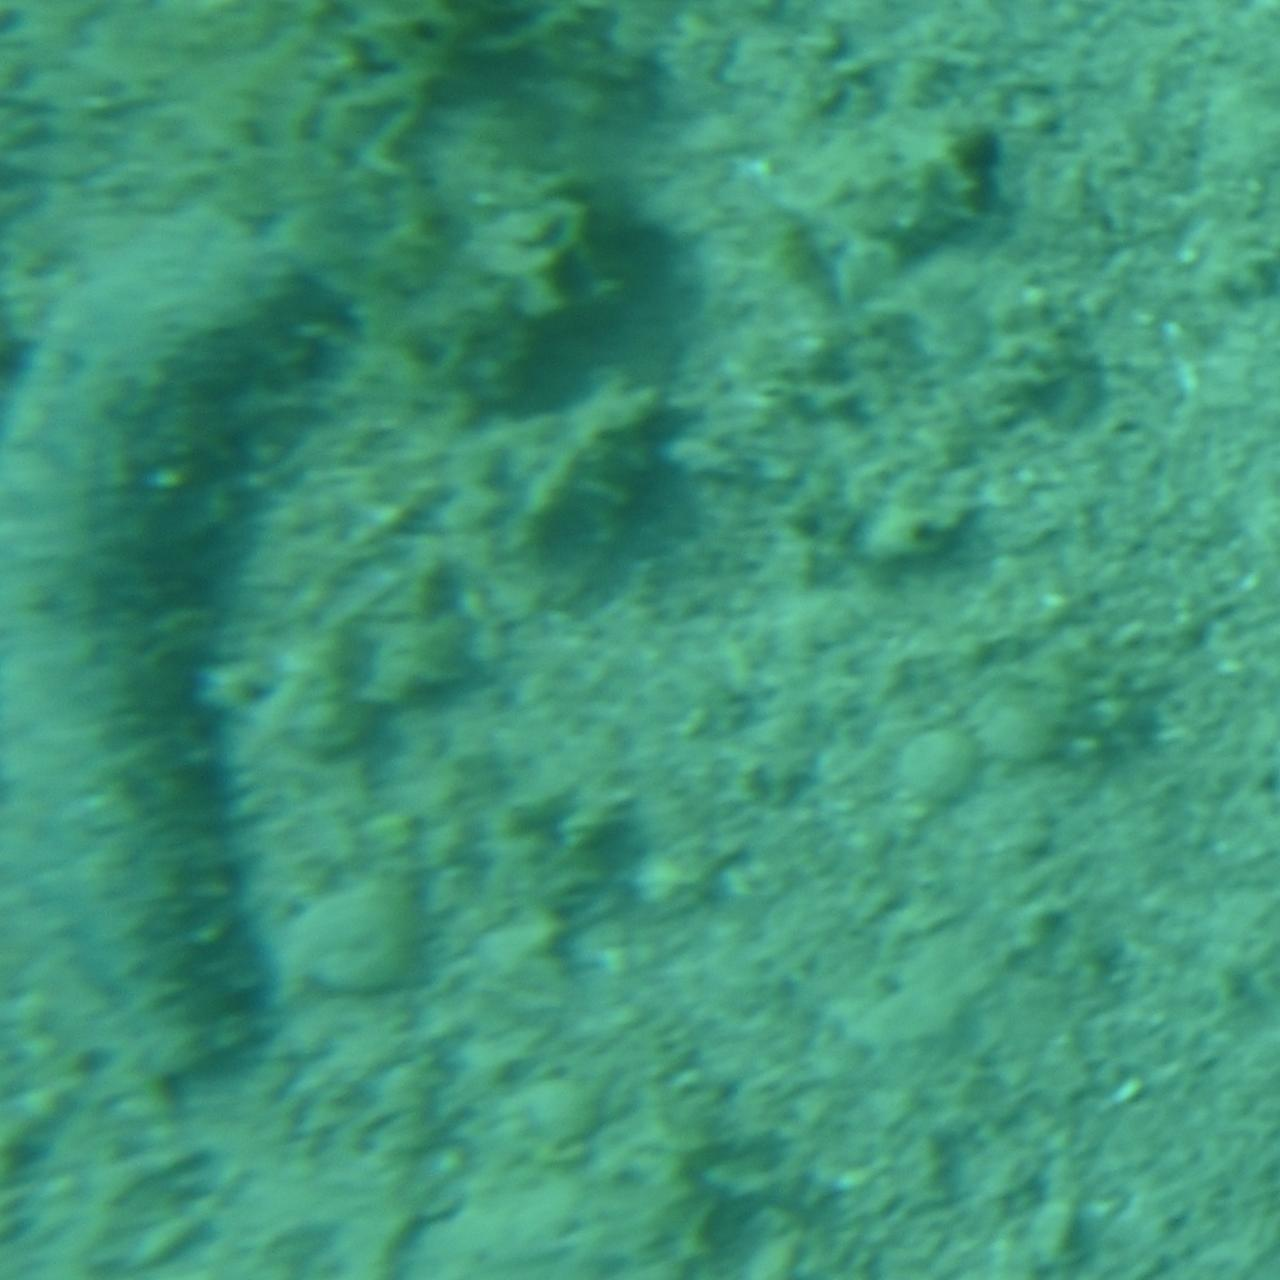Holothuria tubulosa: (0, 178, 340, 1102)
